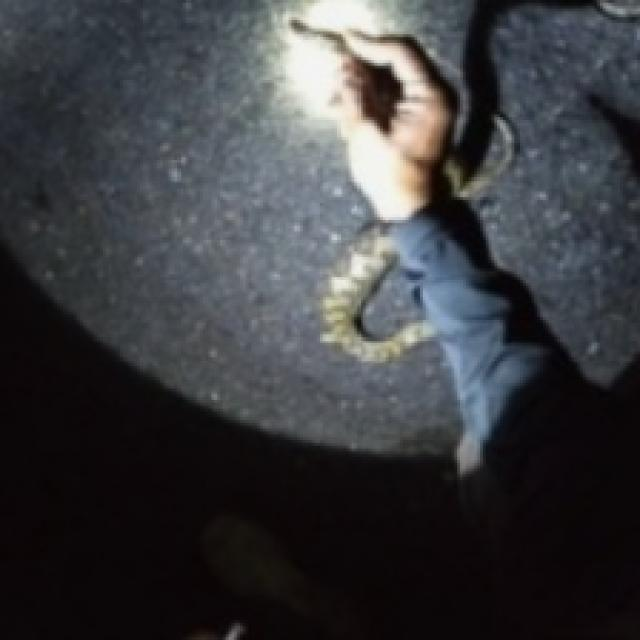reticulated python: (320, 223, 429, 360), (446, 114, 516, 198)
